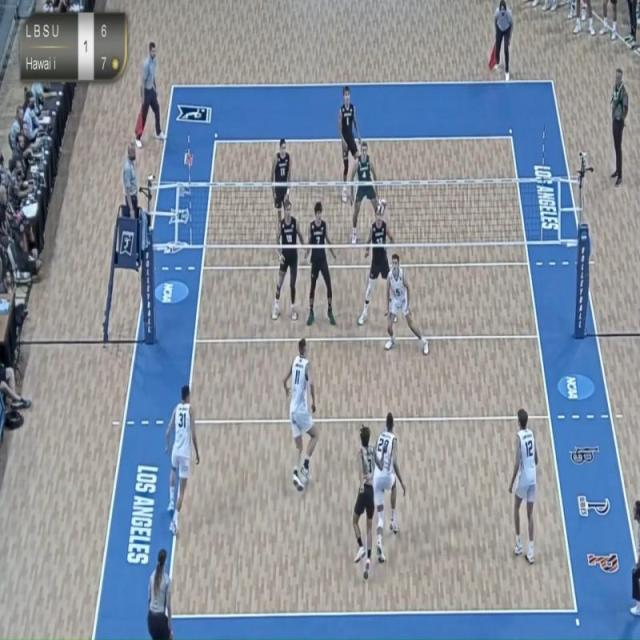volleyball: (375, 192, 390, 219)
